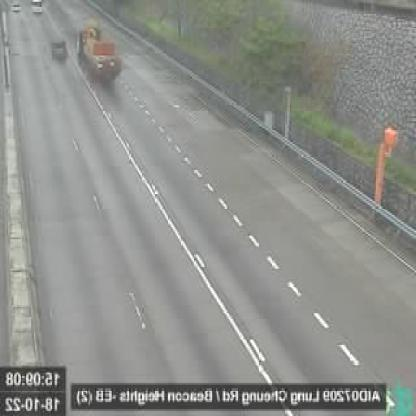Car: (50, 34, 67, 60), (31, 0, 44, 13), (10, 0, 20, 13)
Truck: (76, 20, 122, 87)
